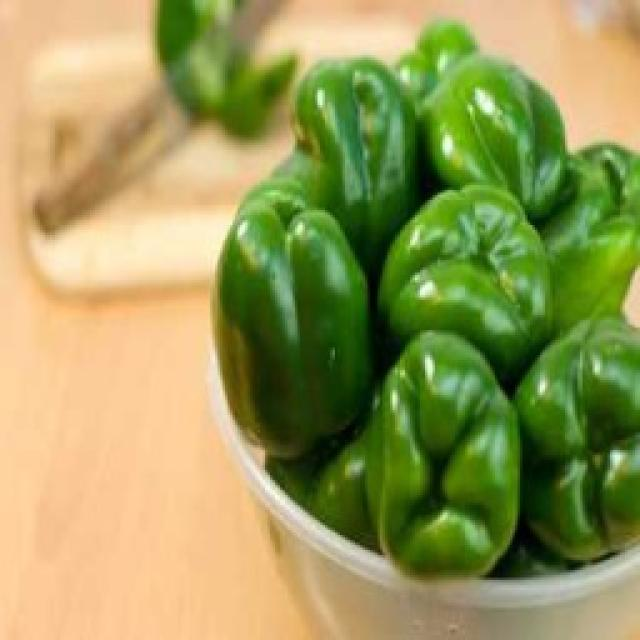Capsicum: (212, 186, 370, 456), (360, 330, 524, 572), (376, 182, 554, 357), (523, 320, 638, 564), (292, 55, 425, 253), (427, 60, 565, 210), (546, 143, 637, 316)
